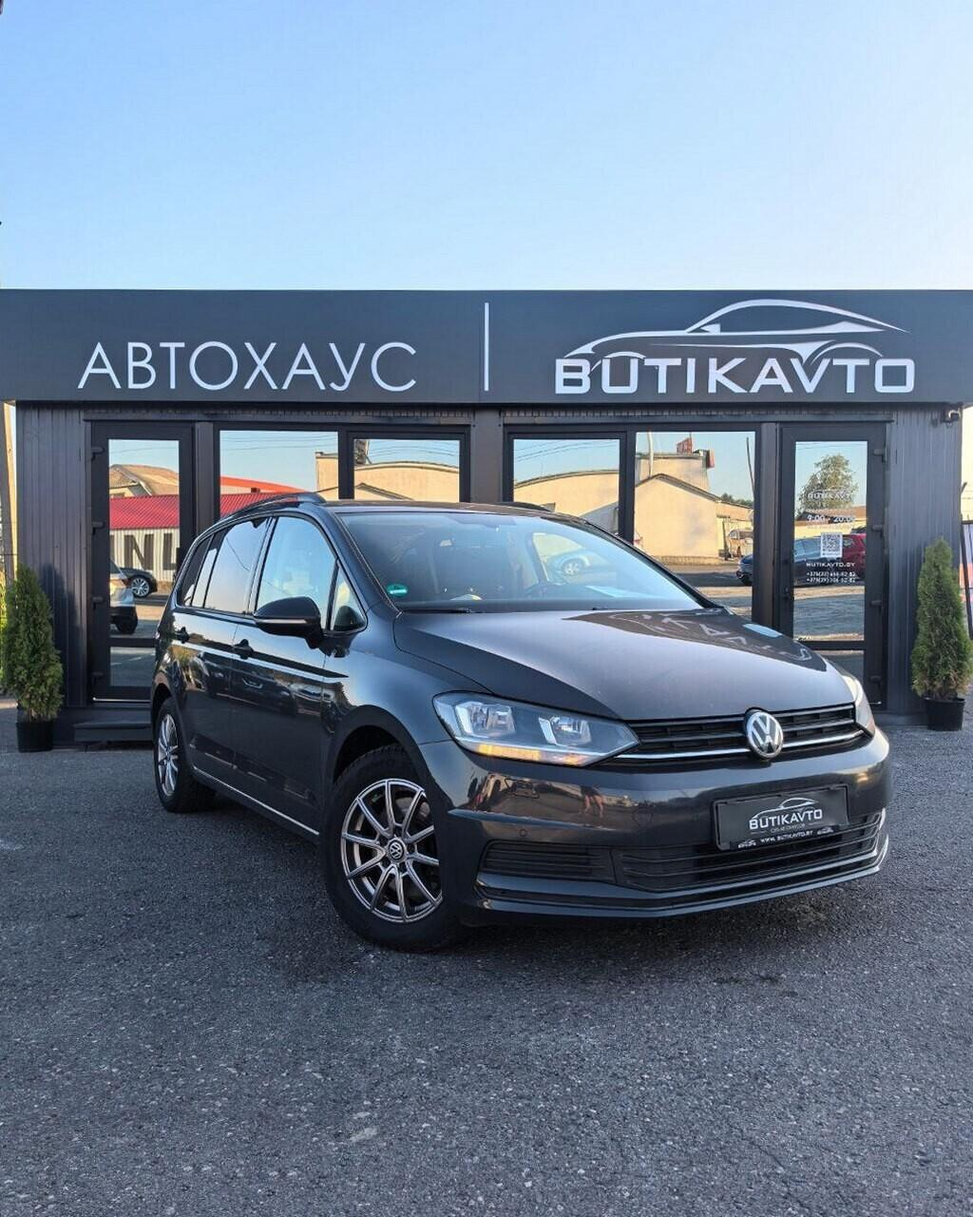Touran_2015: (150, 498, 898, 943)
